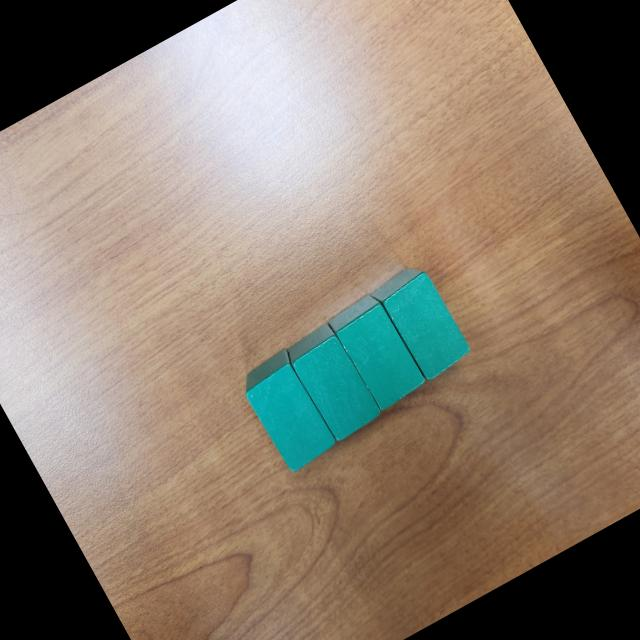green: (234, 346, 342, 476), (366, 259, 475, 387), (325, 288, 430, 414), (282, 319, 385, 443)
